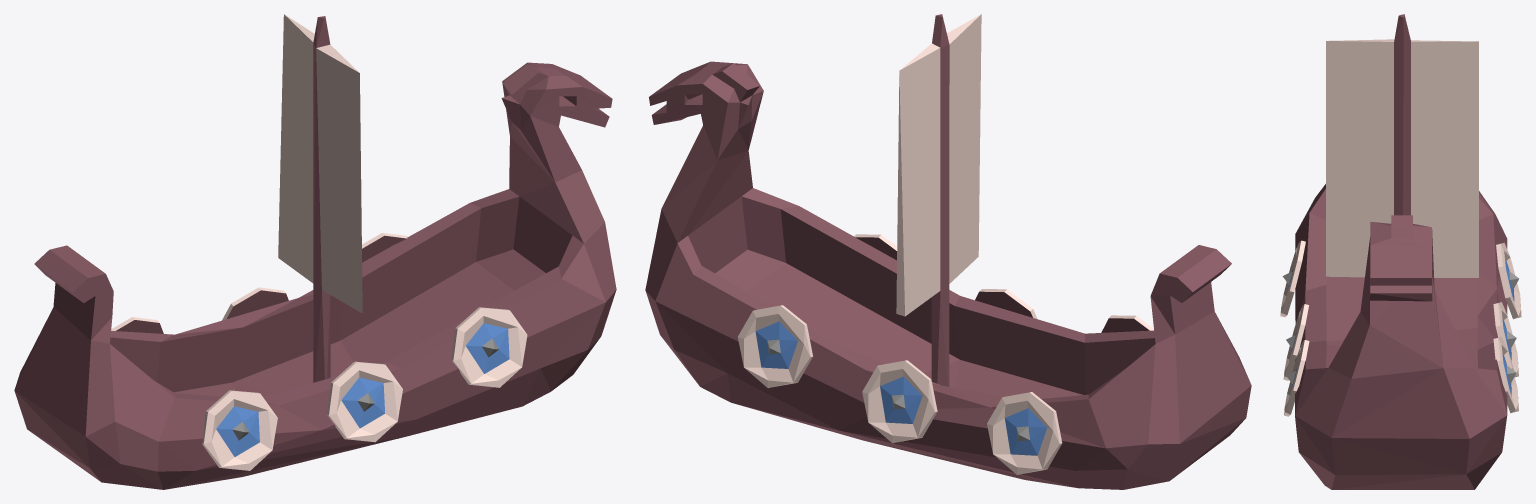
The model's file is Large_Boat (2).fbx.
3 views of the same model, side by side, from view 1: azimuth 30°, elevation 25°; view 2: azimuth 150°, elevation 25°; view 3: azimuth 270°, elevation 25° (orthographic). The views are drawn at different scales.
Parts seen in each view (by area): view 1: Large Boat, Large Sail, Shield.005, Shield.004, Shield.003, Shield.000, Shield.002; view 2: Large Boat, Large Sail, Shield.001, Shield.000, Shield.002, Shield.004, Shield.005; view 3: Large Boat, Large Sail, Shield.001, Shield.002, Shield.000, Shield.005, Shield.004, Shield.003.
Part boxes in pixels (<box>): Large Boat: <box>14,62,616,489</box>; Large Sail: <box>278,14,362,382</box>; Shield.005: <box>202,390,277,470</box>; Shield.004: <box>327,361,402,442</box>; Shield.003: <box>451,307,527,387</box>; Shield.000: <box>222,287,288,320</box>; Shield.002: <box>362,232,407,262</box>; Large Boat: <box>645,61,1251,489</box>; Large Sail: <box>896,14,981,386</box>; Shield.001: <box>987,392,1062,474</box>; Shield.000: <box>862,360,937,443</box>; Shield.002: <box>737,305,812,388</box>; Shield.004: <box>975,289,1037,318</box>; Shield.005: <box>1101,315,1153,332</box>; Large Boat: <box>1295,184,1507,489</box>; Large Sail: <box>1326,14,1478,277</box>; Shield.001: <box>1496,242,1521,319</box>; Shield.002: <box>1493,337,1518,413</box>; Shield.000: <box>1493,302,1518,377</box>; Shield.005: <box>1280,240,1305,317</box>; Shield.004: <box>1283,304,1308,380</box>; Shield.003: <box>1284,340,1309,416</box>.
Bounding box in the file's own units: 900 × 633 × 354.
